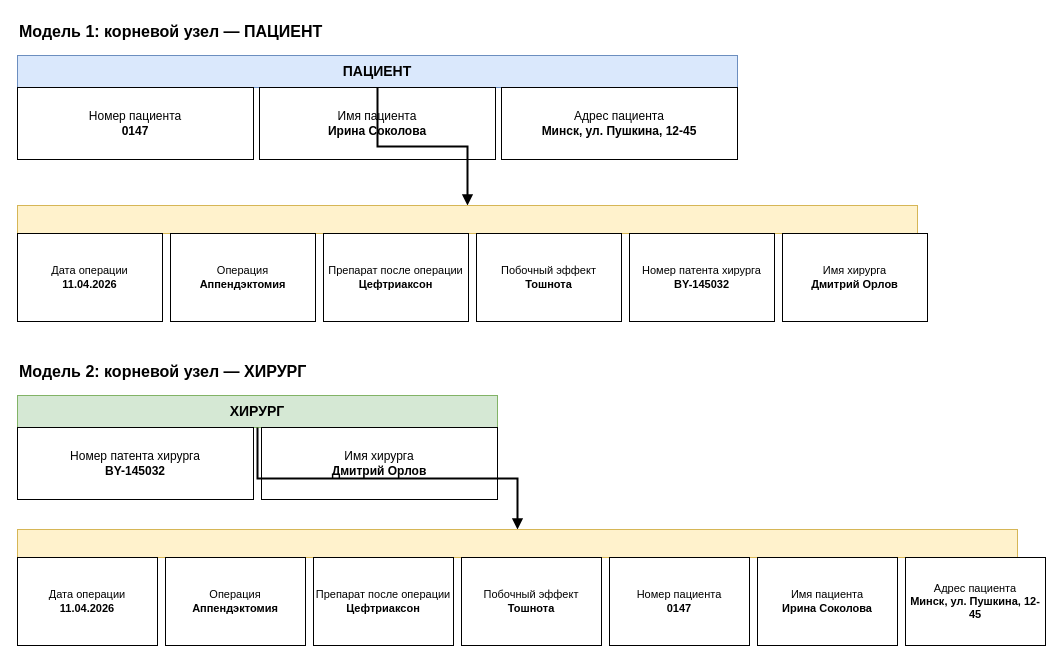
Image size: 1063x663. Some labels were removed from this diagram. Each missing label, with the box of its shape:
ОПЕРАЦИЯ (потомок) — дублируются данные ПАЦИЕНТА: (16, 528, 1018, 558)
ОПЕРАЦИЯ (потомок) — дублируются данные ХИРУРГА: (16, 204, 918, 234)
